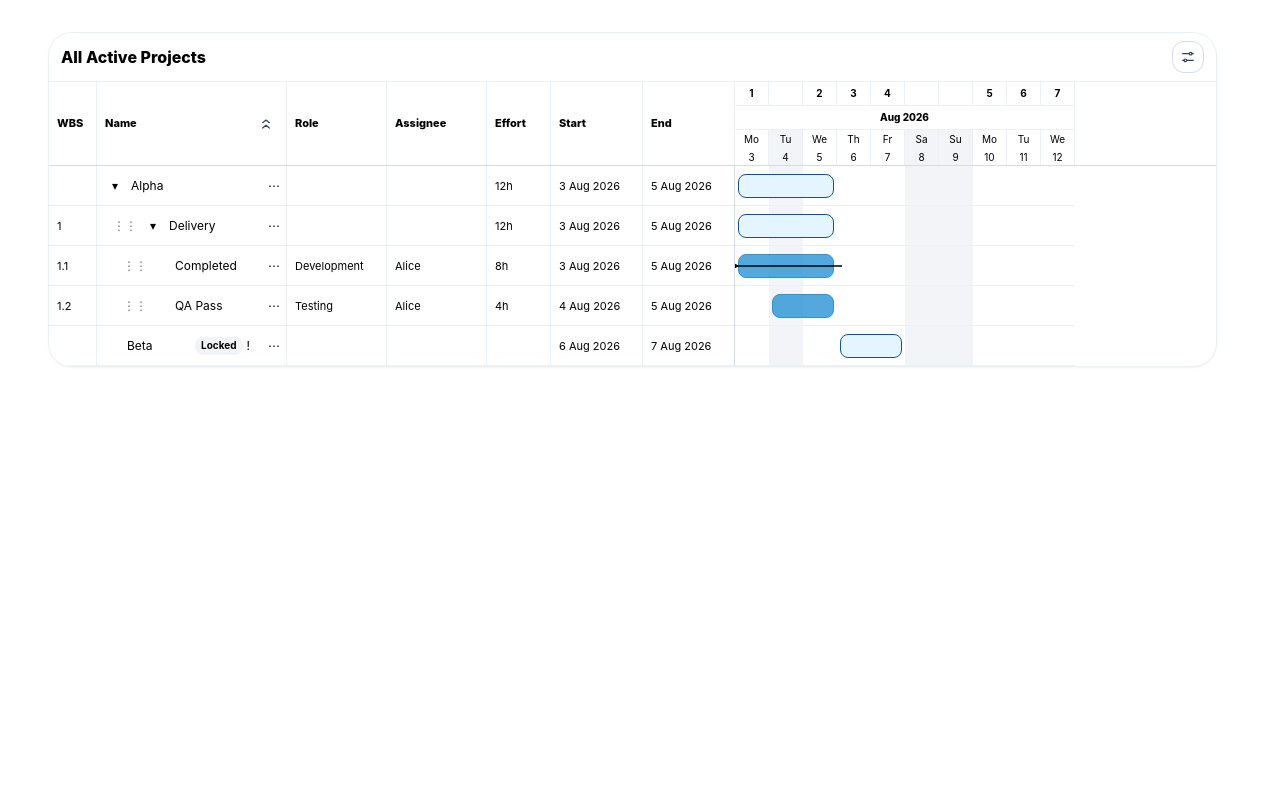
Test: US-7.1 Home portfolio Gantt acceptance workflow › IFD-HOME-FOCUS-05 restores a usable row focus without refreshing when reorder fails
This screenshot has width=1280, height=800.
Expected: the row that starts with "Completed" is shown, [49, 246, 735, 286]
Click the button named "More actions for Completed".
click(274, 266)  # box [262, 254, 286, 278]
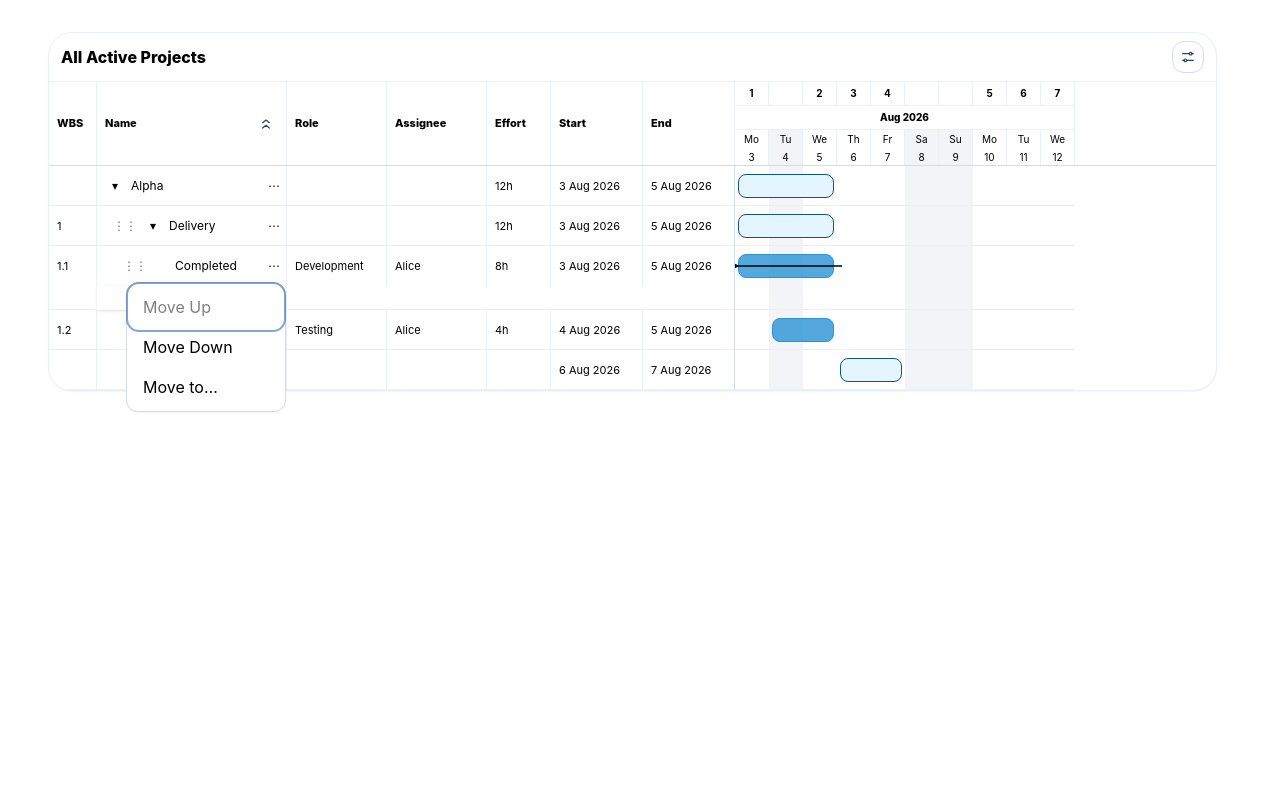
Click the menu item "Move Down".
click(206, 347)  # box [131, 327, 281, 367]
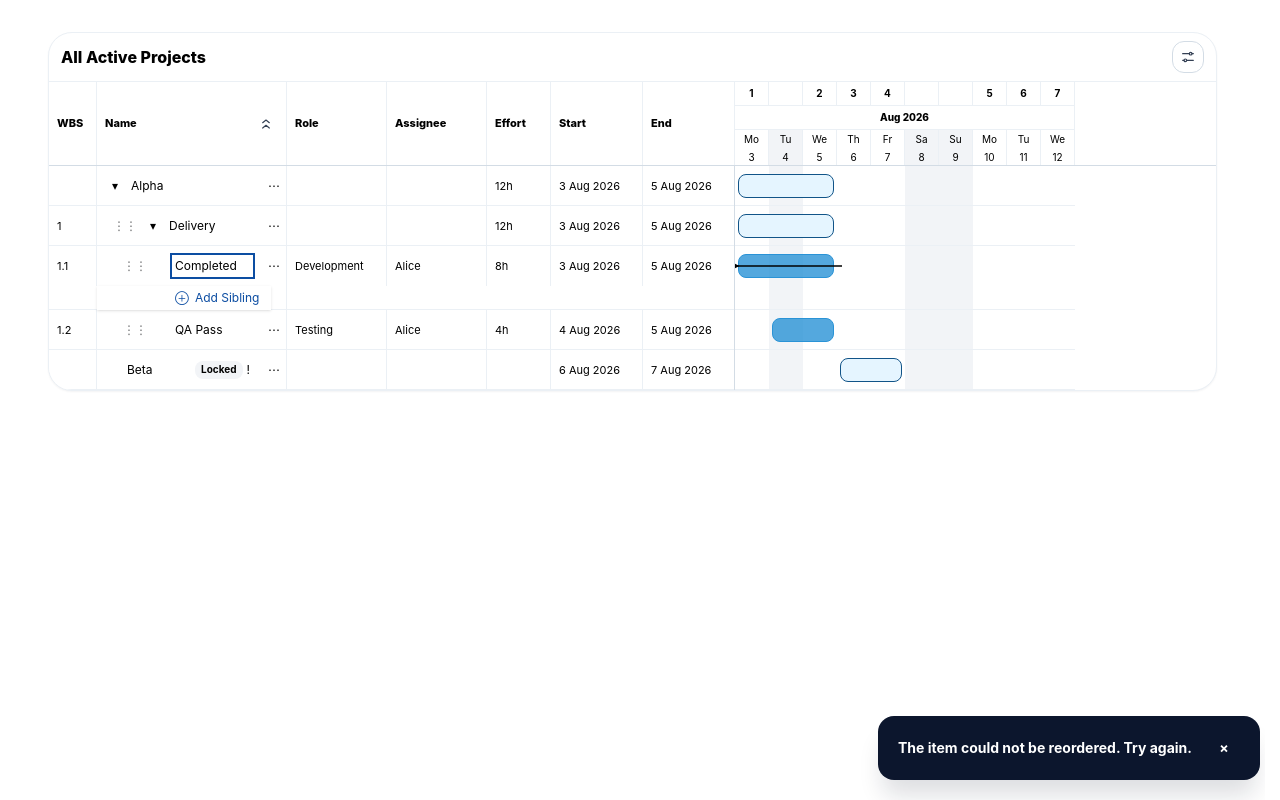
Expected: the row that starts with "Completed" is shown, [49, 246, 735, 310]
Result: the message shows "The item could not be reordered. Try again." at [898, 739, 1192, 756]
